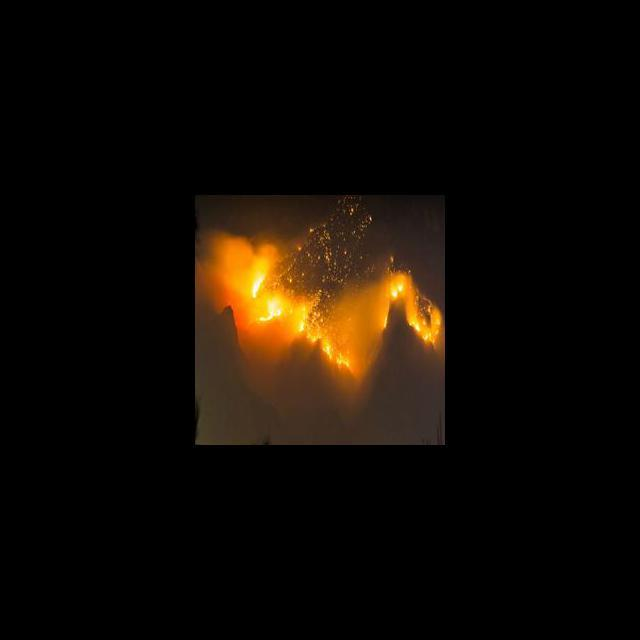Fire: (196, 234, 445, 371)
